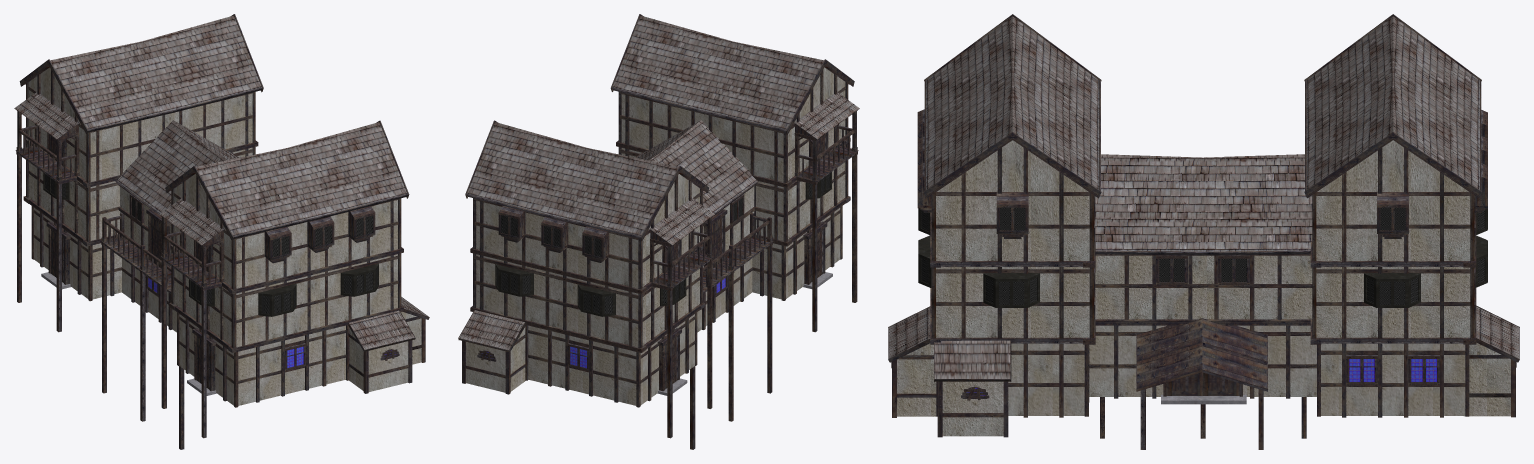
File: hhouse01.dae
3 views of the same model, side by side, from view 1: azimuth 30°, elevation 25°; view 2: azimuth 150°, elevation 25°; view 3: azimuth 270°, elevation 25° (orthographic). The views are drawn at different scales.
Visible parts, largest first — view 1: House2_Roof, House2_Roof_001, House2_Level2_001, House2_Level3, House2_Level3_001, House2_Level1_001, House1_Roof, House2_Level2_Beams_001, House2_Level1_Beams_001, House2_Level2, House2_Level3_Beams, House2_Level3_Beams_001 (+38 smaller); view 2: House2_Roof, House2_Roof_001, House2_Level2, House2_Level3, House2_Level3_001, House2_Level1, House1_Roof, House2_Level2_Beams, House2_Level3_Beams_001, House2_Level1_Beams, House2_Level3_Beams, House2_Level2_001 (+39 smaller); view 3: House1_Roof, House2_Roof, House2_Roof_001, House2_Level3_001, House2_Level3, House1_Level2, House2_Level2_001, House2_Level2, House2_Level1, House1_Level1, House2_Level1_001, Roof1Outer_001 (+37 smaller).
Boxes of the visible parts, x1,y1,x2,y2 form: House2_Roof: (50, 15, 261, 129); House2_Roof_001: (196, 122, 407, 235); House2_Level2_001: (174, 254, 397, 347); House2_Level3: (29, 67, 252, 181); House2_Level3_001: (174, 174, 397, 288); House2_Level1_001: (179, 314, 345, 405); House1_Roof: (117, 120, 237, 213); House2_Level2_Beams_001: (171, 250, 401, 348); House2_Level1_Beams_001: (177, 312, 349, 407); House2_Level2: (29, 147, 252, 240); House2_Level3_Beams: (26, 69, 255, 182); House2_Level3_Beams_001: (171, 176, 401, 289); House2_Roof: (467, 122, 678, 235); House2_Roof_001: (613, 15, 823, 129); House2_Level2: (476, 254, 699, 347); House2_Level3: (476, 174, 699, 288); House2_Level3_001: (621, 67, 845, 181); House2_Level1: (528, 314, 694, 405); House1_Roof: (636, 120, 757, 213); House2_Level2_Beams: (473, 250, 702, 348); House2_Level3_Beams_001: (618, 70, 848, 182); House2_Level1_Beams: (525, 312, 697, 407); House2_Level3_Beams: (473, 176, 702, 289); House2_Level2_001: (621, 148, 845, 240); House1_Roof: (1095, 154, 1312, 251); House2_Roof: (1306, 16, 1479, 189); House2_Roof_001: (926, 16, 1099, 189); House2_Level3_001: (936, 140, 1089, 260); House2_Level3: (1316, 140, 1470, 260); House1_Level2: (1095, 255, 1312, 319); House2_Level2_001: (936, 267, 1089, 337); House2_Level2: (1316, 267, 1470, 337); House2_Level1: (1321, 343, 1465, 415); House1_Level1: (1089, 325, 1316, 396); House2_Level1_001: (1008, 343, 1084, 415); Roof1Outer_001: (1137, 342, 1267, 388).
Bounding box in the file's own units: 11.35 × 19.7 × 14.09.
28 materials, 28 textured.
